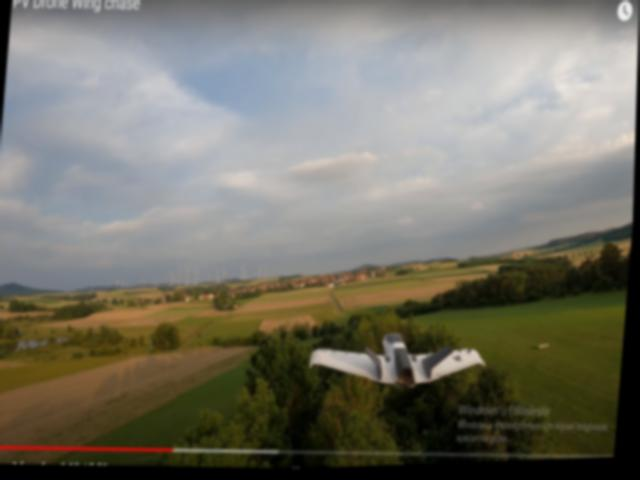plane: (309, 328, 490, 399)
